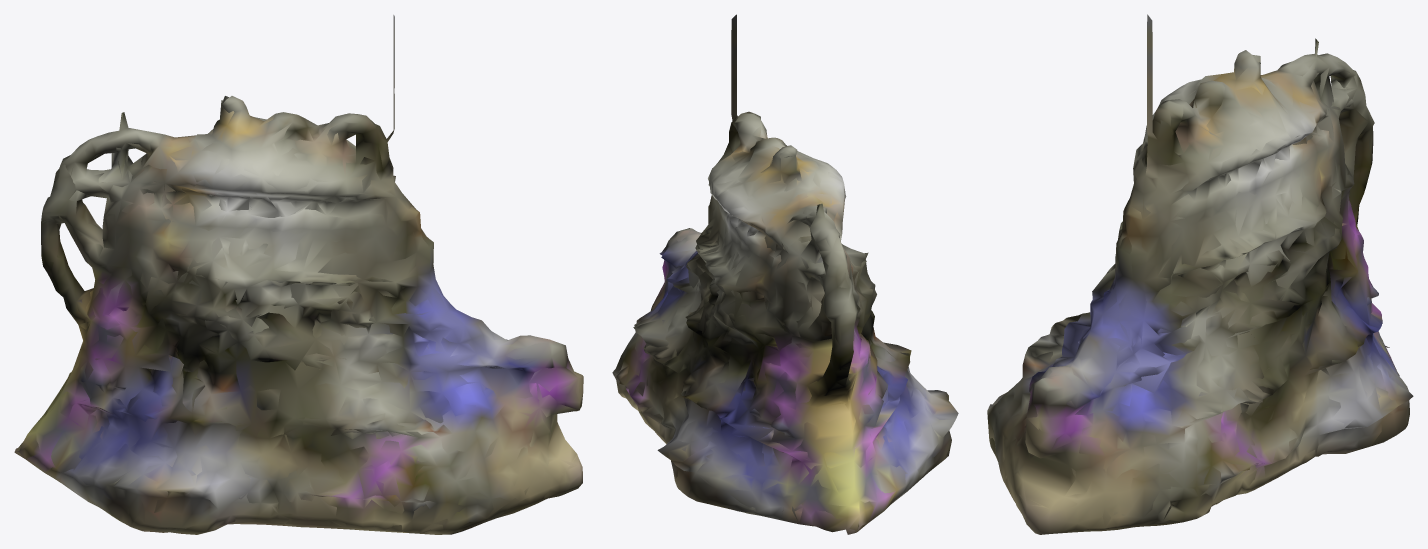
The model's file is yuri_barracks.glb.
The picture shows the model from 3 angles, left to right: view 1: azimuth 30°, elevation 25°; view 2: azimuth 150°, elevation 25°; view 3: azimuth 270°, elevation 25°; orthographic projection. The views are drawn at different scales.
Visible parts, largest first — view 1: yuri_barracks; view 2: yuri_barracks; view 3: yuri_barracks.
Boxes of the visible parts, x1,y1,x2,y2 form: yuri_barracks: (14,15,583,534); yuri_barracks: (612,14,958,534); yuri_barracks: (987,14,1413,534).
Size of the model in its own units: 1.45 by 1.6 by 1.35.
